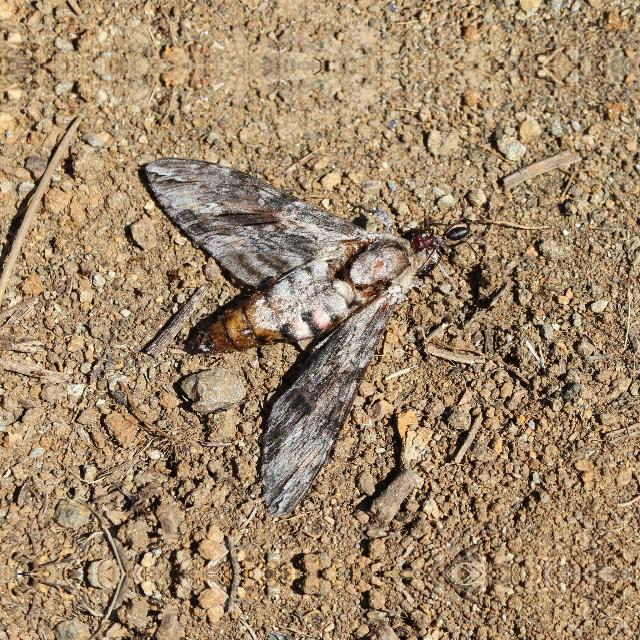Cataglyphis: (397, 214, 479, 258)
